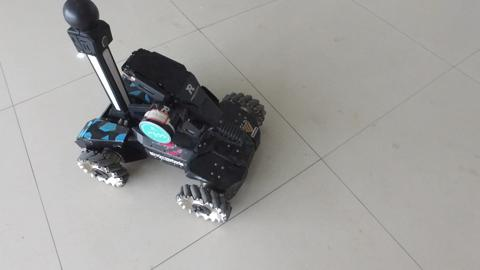chariot: (47, 11, 265, 210)
